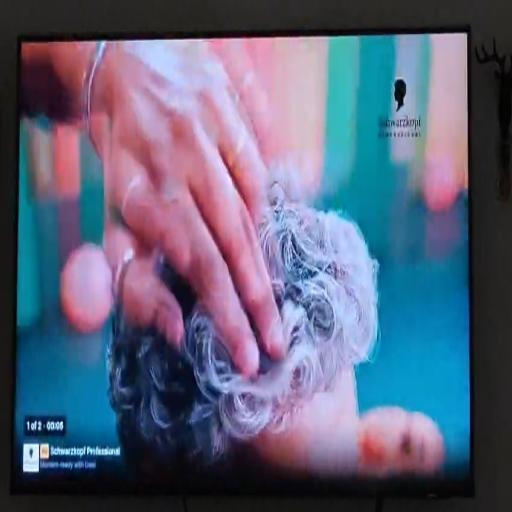ad label: (40, 442, 50, 460)
